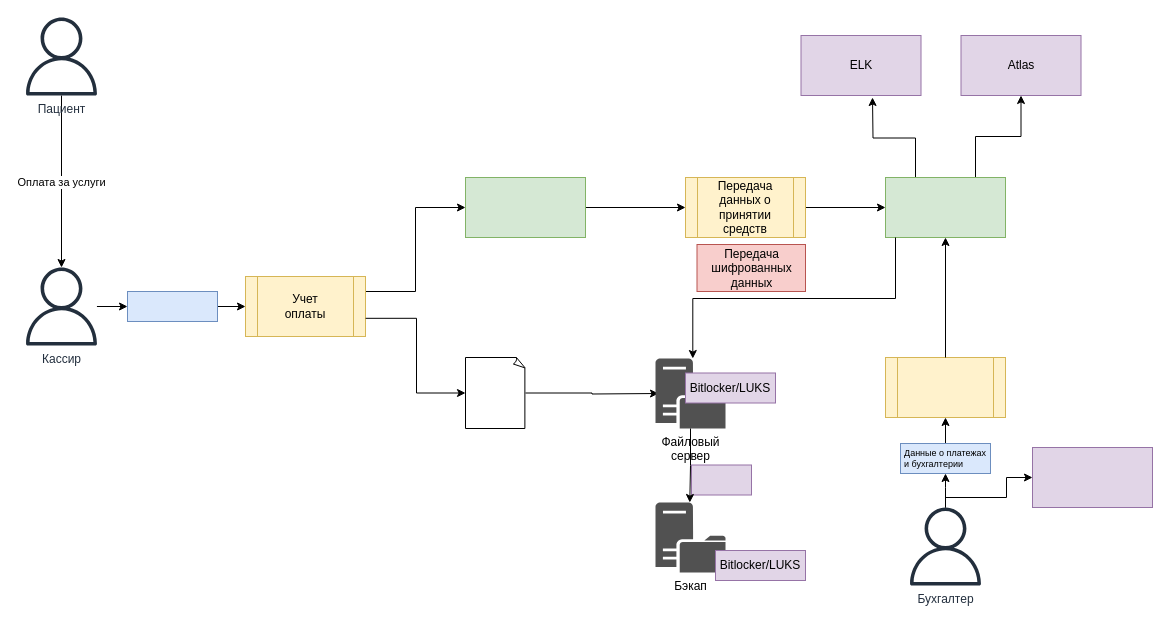
This 1170x623 diagram has some shape labels left out. The centre of each missing label's shape, as x and y in pixels:
"1C: Бухгалтерия предприятия" belongs at (x=945, y=207).
"Excel-файл" belongs at (x=495, y=392).
"Keycloack" belongs at (x=1092, y=477).
"Veeam" belongs at (x=721, y=479).
"Данные об услуге и платеже" belongs at (x=172, y=306).
"ККМ" belongs at (x=525, y=207).
"Процессинг платежей и ведение бухгалтерии" belongs at (x=945, y=387).
